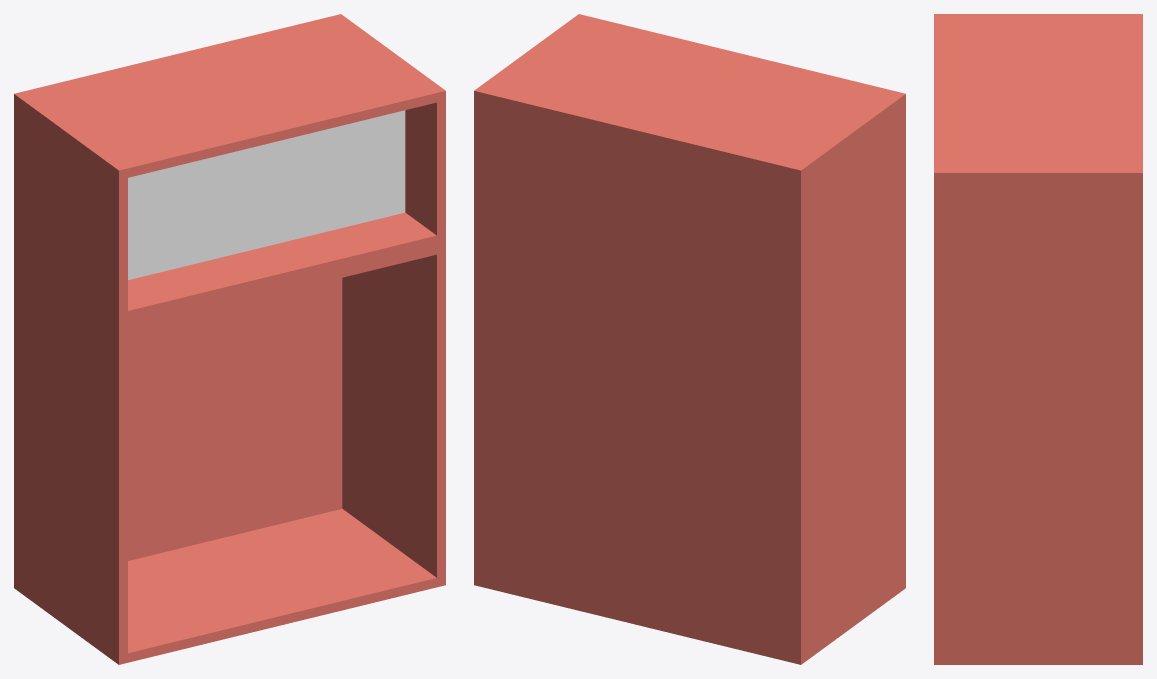
The model's file is nil_link_mesh.dae.
The picture shows the model from 3 angles, left to right: view 1: azimuth 30°, elevation 25°; view 2: azimuth 150°, elevation 25°; view 3: azimuth 270°, elevation 25°; orthographic projection.
Visible parts, largest first — view 1: nil_link (×2); view 2: nil_link; view 3: nil_link.
Part boxes in pixels (x1,y1,x2,y2): nil_link (×2): (14, 14, 445, 664); nil_link: (474, 14, 905, 664); nil_link: (934, 14, 1142, 664).
Size of the model in its own units: 0.18 by 0.26 by 0.1.
